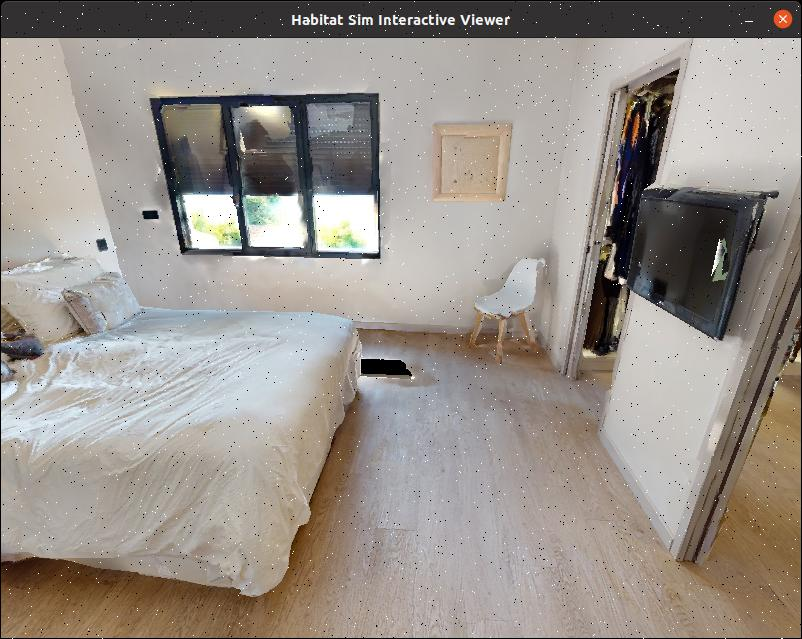bed: (0, 244, 378, 621)
chair: (457, 243, 553, 390)
door-frame: (549, 53, 705, 432)
